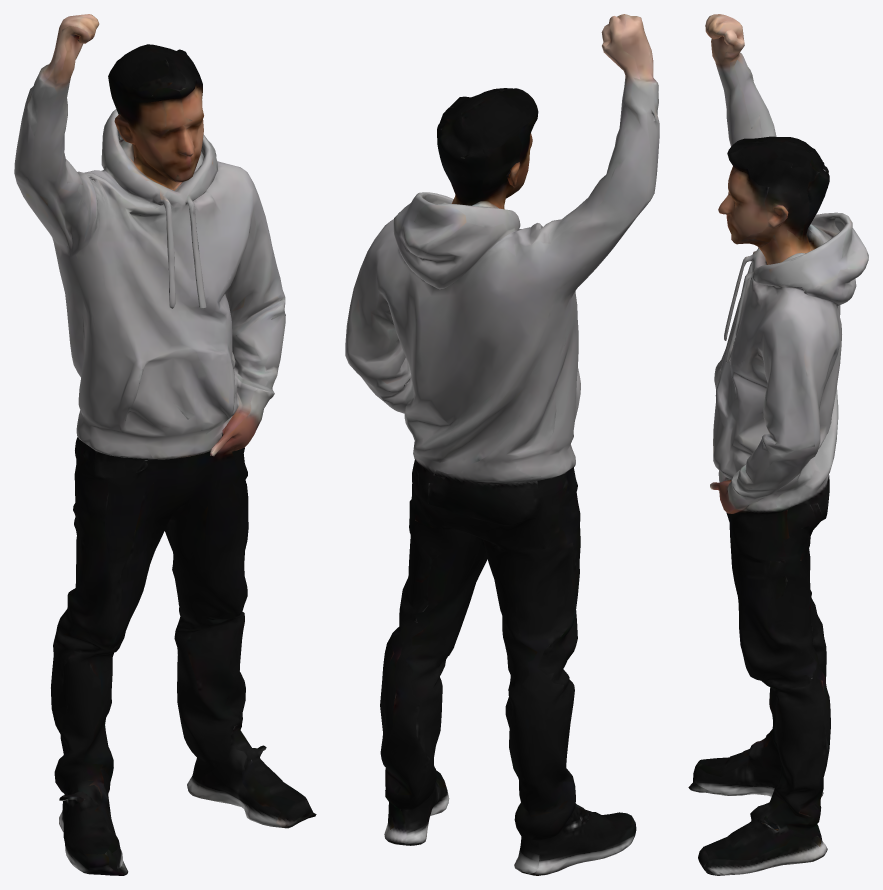
File: fan-m-onearm-s1.glb
3 renders of one model, left to right at view 1: azimuth 30°, elevation 25°; view 2: azimuth 150°, elevation 25°; view 3: azimuth 270°, elevation 25°, orthographic. The views are drawn at different scales.
Parts seen in each view (by area): view 1: geometry_0; view 2: geometry_0; view 3: geometry_0.
Part boxes in pixels (x1,y1,x2,y2): geometry_0: (14,14,316,875); geometry_0: (345,14,659,875); geometry_0: (688,14,868,875).
Size of the model in its own units: 0.3506 by 1 by 0.2151.
1 material, 1 textured.
